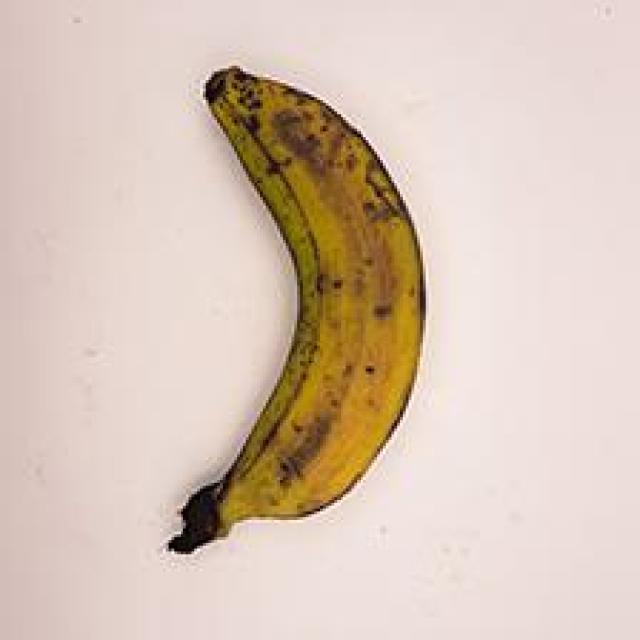Overripe: (91, 30, 475, 584)
